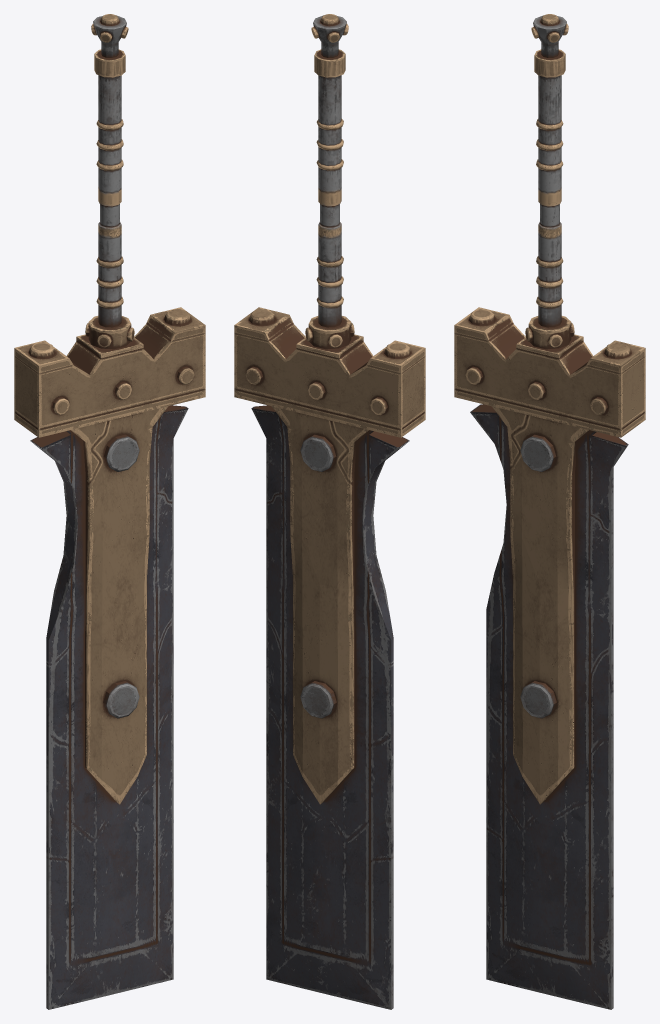
File: sword2.obj
3 renders of one model, left to right at view 1: azimuth 30°, elevation 25°; view 2: azimuth 150°, elevation 25°; view 3: azimuth 330°, elevation 25°, orthographic.
Parts seen in each view (by area): view 1: lame_low, plaque_lame_low, garde_low, manche_low, vis_low, annaux_low, attache_garde_low, paumau_low, attache_pommau_low; view 2: lame_low, plaque_lame_low, garde_low, manche_low, vis_low, annaux_low, attache_garde_low, paumau_low, attache_pommau_low; view 3: lame_low, plaque_lame_low, garde_low, manche_low, vis_low, annaux_low, attache_garde_low, paumau_low, attache_pommau_low.
Part boxes in pixels (<box>): lame_low: <box>30,405,188,1009</box>; plaque_lame_low: <box>70,406,168,804</box>; garde_low: <box>14,307,205,437</box>; manche_low: <box>98,75,121,327</box>; vis_low: <box>28,14,194,718</box>; annaux_low: <box>96,119,123,307</box>; attache_garde_low: <box>88,316,131,349</box>; paumau_low: <box>93,15,126,57</box>; attache_pommau_low: <box>94,49,125,77</box>; lame_low: <box>251,405,409,1009</box>; plaque_lame_low: <box>271,406,369,804</box>; garde_low: <box>234,307,425,437</box>; manche_low: <box>318,75,341,327</box>; vis_low: <box>245,14,411,718</box>; annaux_low: <box>316,119,343,307</box>; attache_garde_low: <box>308,316,351,349</box>; paumau_low: <box>313,15,346,57</box>; attache_pommau_low: <box>314,49,345,77</box>; lame_low: <box>470,404,628,1009</box>; plaque_lame_low: <box>491,406,589,804</box>; garde_low: <box>454,307,645,437</box>; manche_low: <box>538,75,561,327</box>; vis_low: <box>465,14,631,718</box>; annaux_low: <box>536,119,563,307</box>; attache_garde_low: <box>528,316,571,349</box>; paumau_low: <box>533,15,566,57</box>; attache_pommau_low: <box>534,49,565,77</box>.
Size of the model in its own units: 0.0361 by 0.2022 by 0.0112.
Materials: 1 (1 with a texture image).
